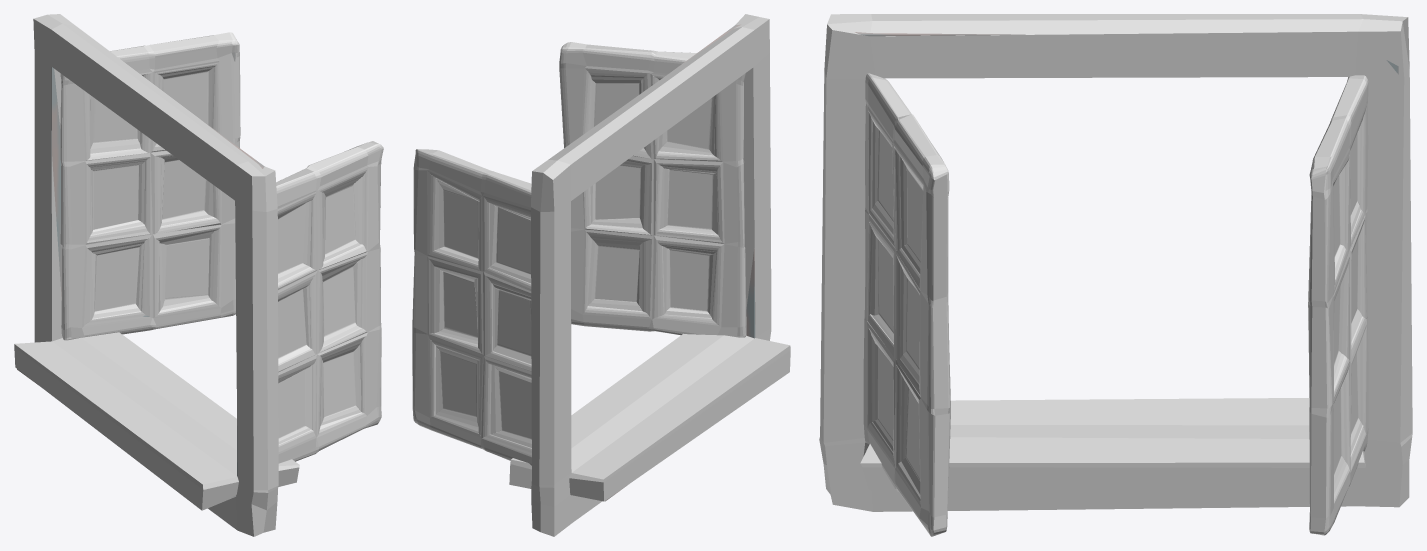
File: window.fbx
The picture shows the model from 3 angles, left to right: view 1: azimuth 30°, elevation 25°; view 2: azimuth 150°, elevation 25°; view 3: azimuth 270°, elevation 25°; orthographic projection. The views are drawn at different scales.
Parts seen in each view (by area): view 1: WindowSill, right_window, left_window; view 2: WindowSill, left_window, right_window; view 3: WindowSill, left_window, right_window.
Part boxes in pixels (bbox=[...]): WindowSill: bbox=[14, 14, 299, 536]; right_window: bbox=[60, 32, 240, 340]; left_window: bbox=[276, 141, 383, 463]; WindowSill: bbox=[509, 14, 790, 536]; left_window: bbox=[559, 42, 746, 337]; right_window: bbox=[412, 149, 531, 465]; WindowSill: bbox=[819, 14, 1412, 511]; left_window: bbox=[863, 73, 950, 536]; right_window: bbox=[1308, 75, 1368, 535].
Bounding box in the file's own units: 1.65 × 2.78 × 3.08.
2 materials, 1 textured.
